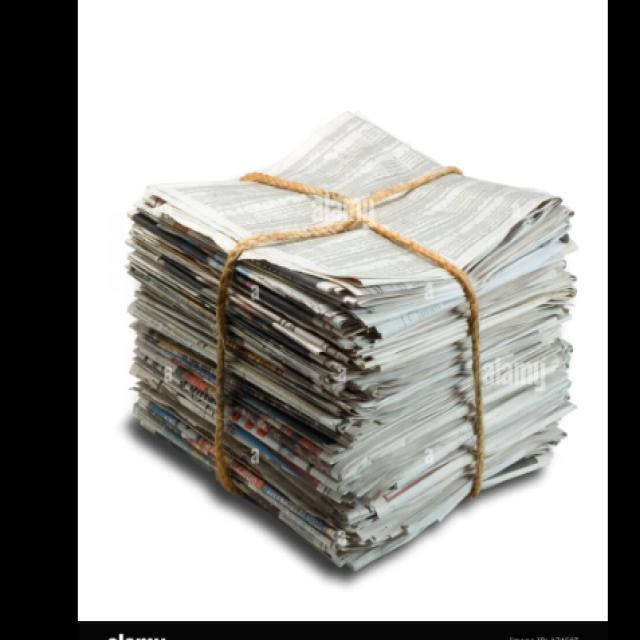Koran: (124, 109, 578, 572)
